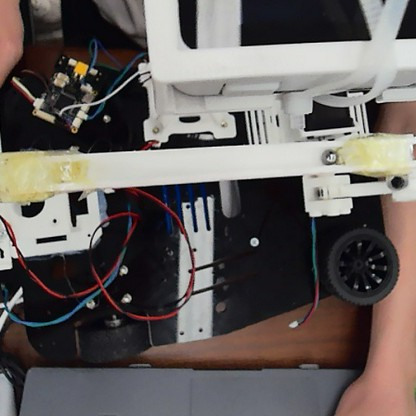ironball: (319, 146, 338, 165)
